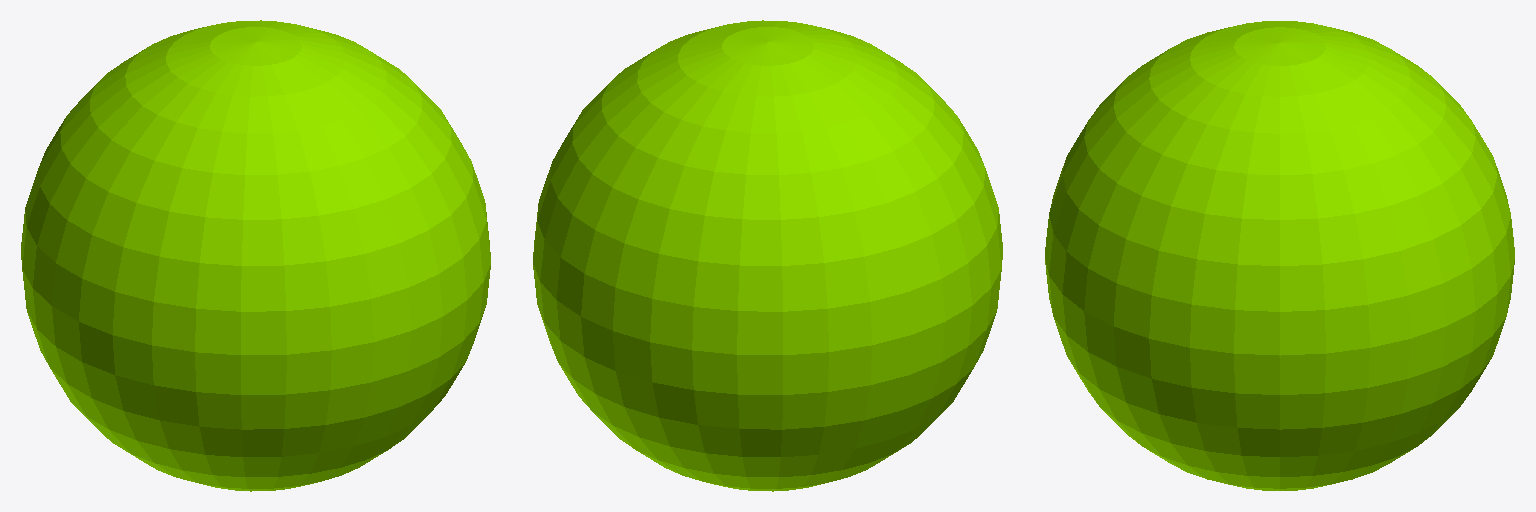
URDF robot description (sphere):
<?xml version='1.0' encoding='UTF-8'?>
<robot name="sphere">
  <link name="base_link">
    <inertial>
      <origin xyz="0.0 0.0 0.0" rpy="0.0 -0.0 0.0"/>
      <mass value="1.0"/>
      <inertia ixx="1.0" ixy="0.0" ixz="0.0" iyy="1.0" iyz="0.0" izz="1.0"/>
    </inertial>
    <visual name="base_link_visual">
      <geometry>
        <sphere radius="0.3"/>
      </geometry>
      <origin xyz="0 0 0" rpy="0 0 0"/>
      <material name="object_color">
        <color rgba="0.6 0.9 0 1"/>
      </material>
    </visual>
    <collision name="base_link_collision">
      <geometry>
        <sphere radius="0.3"/>
      </geometry>
      <origin xyz="0 0 0" rpy="0 0 0"/>
    </collision>
  </link>
</robot> 

--- Render facts (derived) ---
The picture shows the robot from 3 angles, left to right: view 1: azimuth 30°, elevation 25°; view 2: azimuth 150°, elevation 25°; view 3: azimuth 270°, elevation 25°; orthographic projection.
Model sphere with 1 links and 0 joints (none), rooted at base_link, posed every joint at zero.
Links seen in each view (by area): view 1: base_link; view 2: base_link; view 3: base_link.
Link boxes in pixels (box(x1,y1,x2,y2)): base_link: box(21, 20, 490, 491); base_link: box(533, 20, 1002, 491); base_link: box(1045, 21, 1514, 490).
Size in the robot's own frame: 0.6 by 0.6 by 0.6 metres.
Geometry: primitives only (box / cylinder / sphere), no mesh files.
